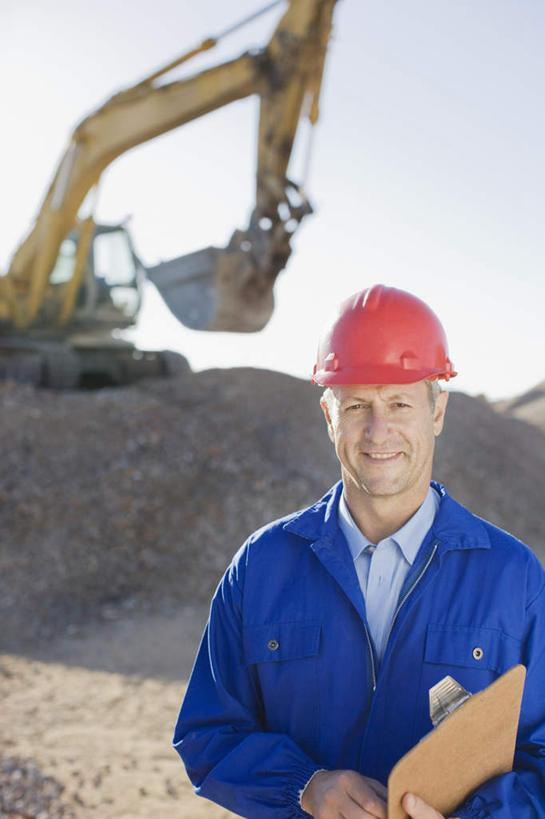helmet: (310, 289, 462, 389)
